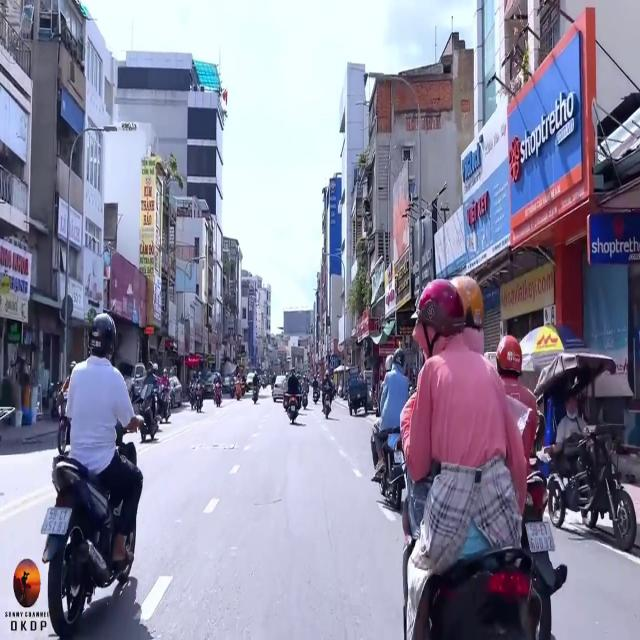bien_trang: (44, 506, 70, 536)
